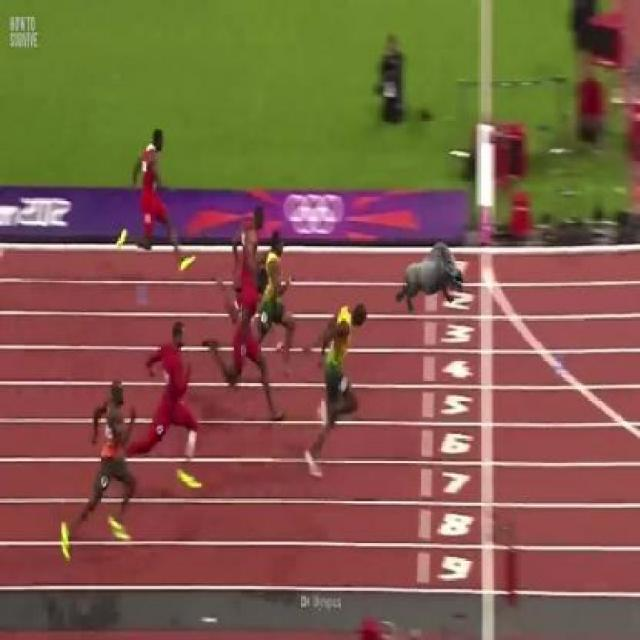pig: (391, 228, 473, 320)
